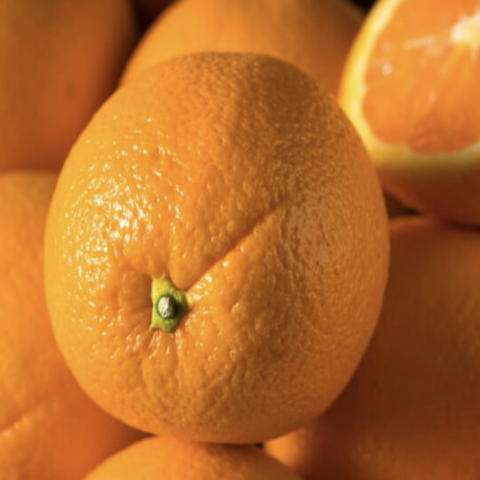orange: (2, 23, 405, 465)
